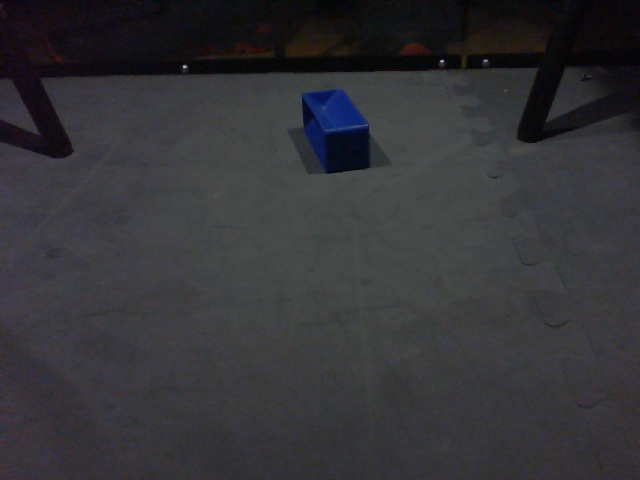BlueSample: (300, 88, 372, 174)
